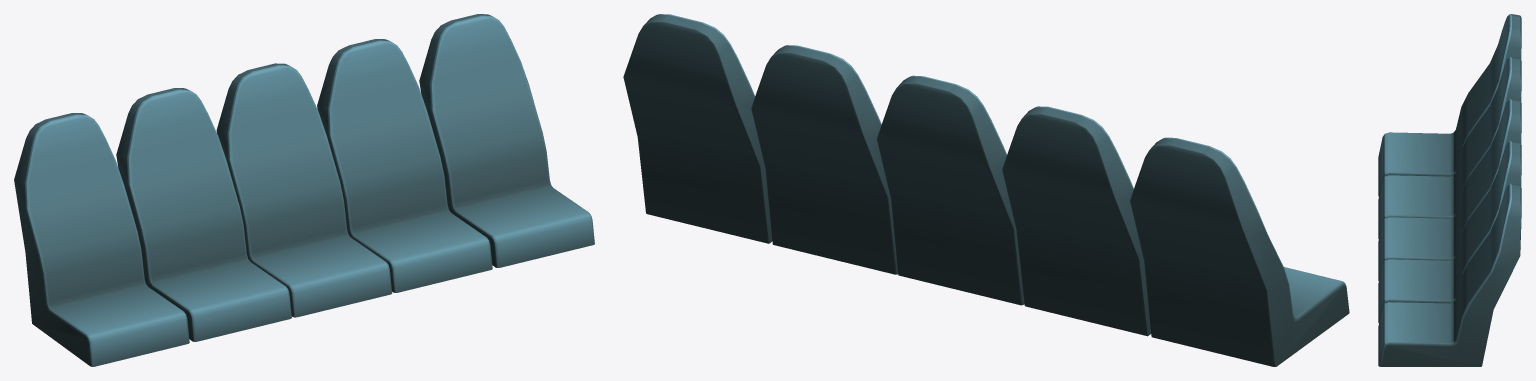
Rendered from bus_backseats_mdl.fbx.
3 renders of one model, left to right at view 1: azimuth 30°, elevation 25°; view 2: azimuth 150°, elevation 25°; view 3: azimuth 270°, elevation 25°, orthographic. The views are drawn at different scales.
Parts seen in each view (by area): view 1: bus_seats_backseat; view 2: bus_seats_backseat; view 3: bus_seats_backseat.
Part boxes in pixels (<box>): bus_seats_backseat: <box>14,14,594,366</box>; bus_seats_backseat: <box>623,14,1349,366</box>; bus_seats_backseat: <box>1378,14,1521,366</box>.
Size of the model in its own units: 232 by 79.4 by 66.43.
